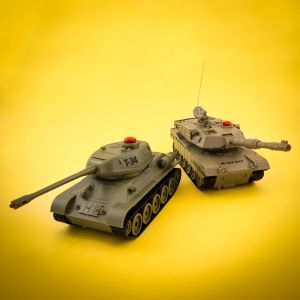Battle Tank: (47, 131, 183, 242), (168, 101, 289, 197)
